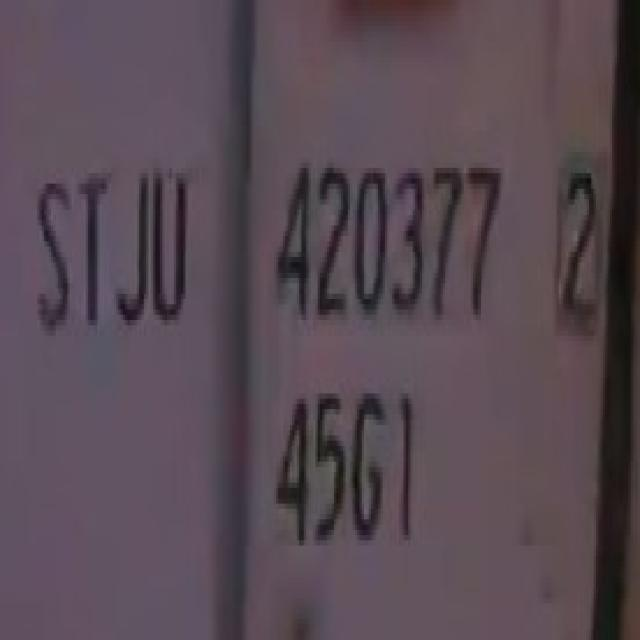dv: (548, 150, 606, 340)
owner: (28, 150, 206, 361)
serial: (269, 128, 510, 344)
size: (277, 379, 418, 582)
